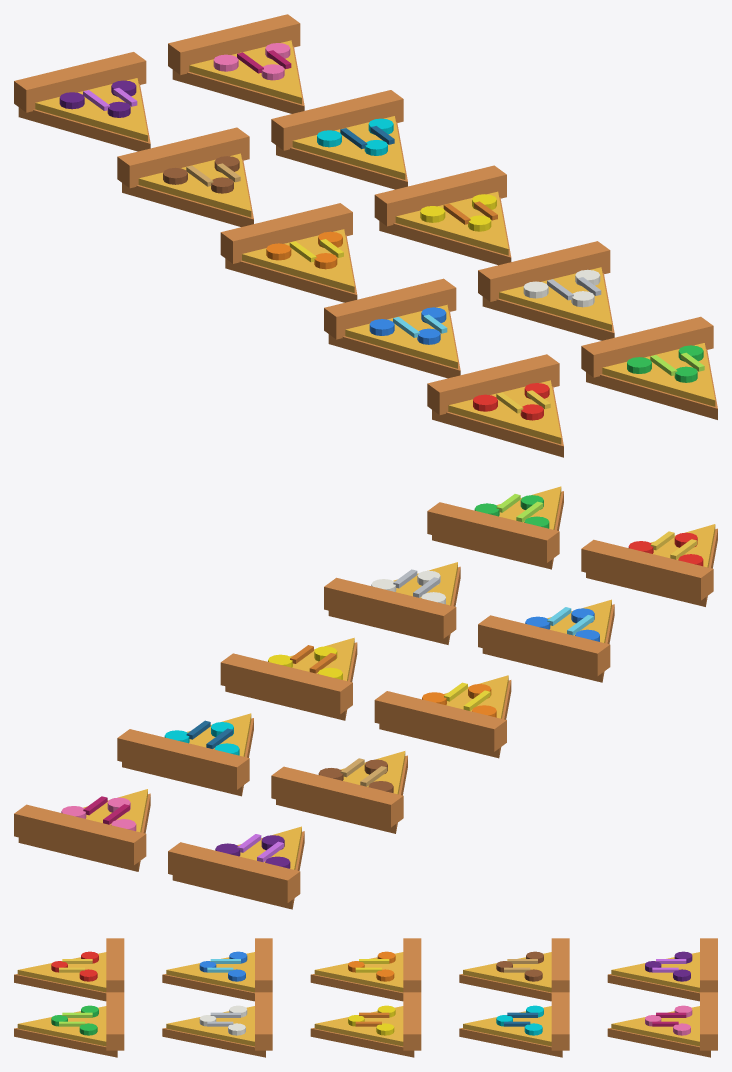
Rendered from PR3D_PizzaVariants_Kit.fbx.
3 renders of one model, top to bottom at view 1: azimuth 30°, elevation 25°; view 2: azimuth 150°, elevation 25°; view 3: azimuth 270°, elevation 25°, orthographic. The views are drawn at different scales.
Visible parts, largest first — view 1: PR3D_Pizza_02_Green_Basil, PR3D_Pizza_01_Red_Tomato, PR3D_Pizza_04_White_Garlic, PR3D_Pizza_09_DarkPurple_Olive, PR3D_Pizza_10_Pink_Ham, PR3D_Pizza_03_Blue_Cheese, PR3D_Pizza_06_Yellow_Corn, PR3D_Pizza_05_Orange_Pepper, PR3D_Pizza_07_Brown_Mushroom, PR3D_Pizza_08_Cyan_Seafood; view 2: PR3D_Pizza_06_Yellow_Corn, PR3D_Pizza_09_DarkPurple_Olive, PR3D_Pizza_01_Red_Tomato, PR3D_Pizza_05_Orange_Pepper, PR3D_Pizza_03_Blue_Cheese, PR3D_Pizza_04_White_Garlic, PR3D_Pizza_10_Pink_Ham, PR3D_Pizza_08_Cyan_Seafood, PR3D_Pizza_02_Green_Basil, PR3D_Pizza_07_Brown_Mushroom; view 3: PR3D_Pizza_06_Yellow_Corn, PR3D_Pizza_02_Green_Basil, PR3D_Pizza_08_Cyan_Seafood, PR3D_Pizza_04_White_Garlic, PR3D_Pizza_10_Pink_Ham, PR3D_Pizza_05_Orange_Pepper, PR3D_Pizza_01_Red_Tomato, PR3D_Pizza_07_Brown_Mushroom, PR3D_Pizza_03_Blue_Cheese, PR3D_Pizza_09_DarkPurple_Olive.
Boxes of the visible parts, x1,y1,x2,y2 form: PR3D_Pizza_02_Green_Basil: [581, 316, 717, 419]; PR3D_Pizza_01_Red_Tomato: [427, 354, 563, 457]; PR3D_Pizza_04_White_Garlic: [478, 241, 614, 340]; PR3D_Pizza_09_DarkPurple_Olive: [14, 52, 150, 151]; PR3D_Pizza_10_Pink_Ham: [168, 14, 304, 113]; PR3D_Pizza_03_Blue_Cheese: [324, 278, 460, 378]; PR3D_Pizza_06_Yellow_Corn: [374, 165, 511, 265]; PR3D_Pizza_05_Orange_Pepper: [220, 203, 357, 302]; PR3D_Pizza_07_Brown_Mushroom: [117, 127, 253, 226]; PR3D_Pizza_08_Cyan_Seafood: [271, 90, 407, 189]; PR3D_Pizza_06_Yellow_Corn: [220, 637, 357, 720]; PR3D_Pizza_09_DarkPurple_Olive: [168, 826, 304, 909]; PR3D_Pizza_01_Red_Tomato: [581, 524, 717, 606]; PR3D_Pizza_05_Orange_Pepper: [374, 675, 511, 758]; PR3D_Pizza_03_Blue_Cheese: [478, 599, 614, 682]; PR3D_Pizza_04_White_Garlic: [324, 562, 460, 644]; PR3D_Pizza_10_Pink_Ham: [14, 789, 150, 871]; PR3D_Pizza_08_Cyan_Seafood: [117, 713, 253, 796]; PR3D_Pizza_02_Green_Basil: [427, 486, 563, 569]; PR3D_Pizza_07_Brown_Mushroom: [271, 751, 407, 833]; PR3D_Pizza_06_Yellow_Corn: [310, 992, 421, 1057]; PR3D_Pizza_02_Green_Basil: [14, 992, 124, 1057]; PR3D_Pizza_08_Cyan_Seafood: [459, 992, 569, 1057]; PR3D_Pizza_04_White_Garlic: [162, 992, 272, 1057]; PR3D_Pizza_10_Pink_Ham: [607, 992, 717, 1057]; PR3D_Pizza_05_Orange_Pepper: [310, 938, 421, 1001]; PR3D_Pizza_01_Red_Tomato: [14, 938, 124, 1001]; PR3D_Pizza_07_Brown_Mushroom: [459, 938, 569, 1001]; PR3D_Pizza_03_Blue_Cheese: [162, 938, 272, 1001]; PR3D_Pizza_09_DarkPurple_Olive: [607, 938, 717, 1001].
Size of the model in its own units: 3.29 by 0.375 by 10.2.
